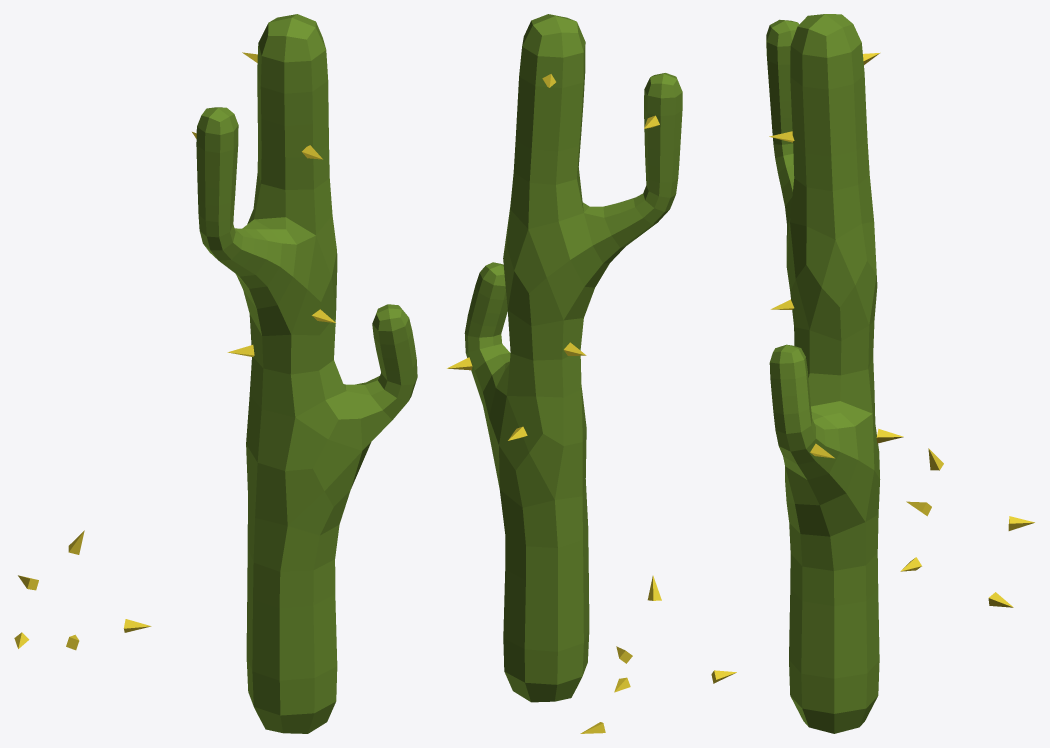
File: Kaktus kecil.glb
3 views of the same model, side by side, from view 1: azimuth 30°, elevation 25°; view 2: azimuth 150°, elevation 25°; view 3: azimuth 270°, elevation 25° (orthographic). The views are drawn at different scales.
Visible parts, largest first — view 1: Plane; view 2: Plane; view 3: Plane.
Part boxes in pixels (x1=…): Plane: x1=196, y1=14, x2=417, y2=733; Plane: x1=464, y1=14, x2=682, y2=702; Plane: x1=766, y1=14, x2=880, y2=733.
Bounding box in the file's own units: 0.2781 × 0.5579 × 0.1911.
